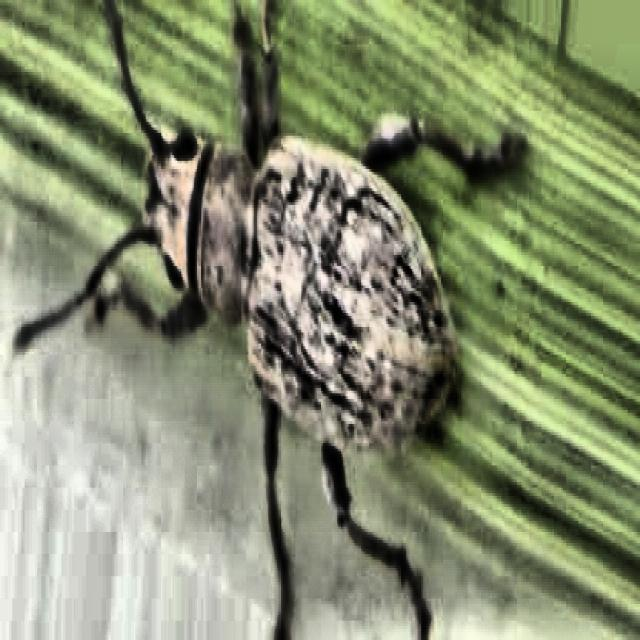Stink bug: (61, 14, 533, 556)
